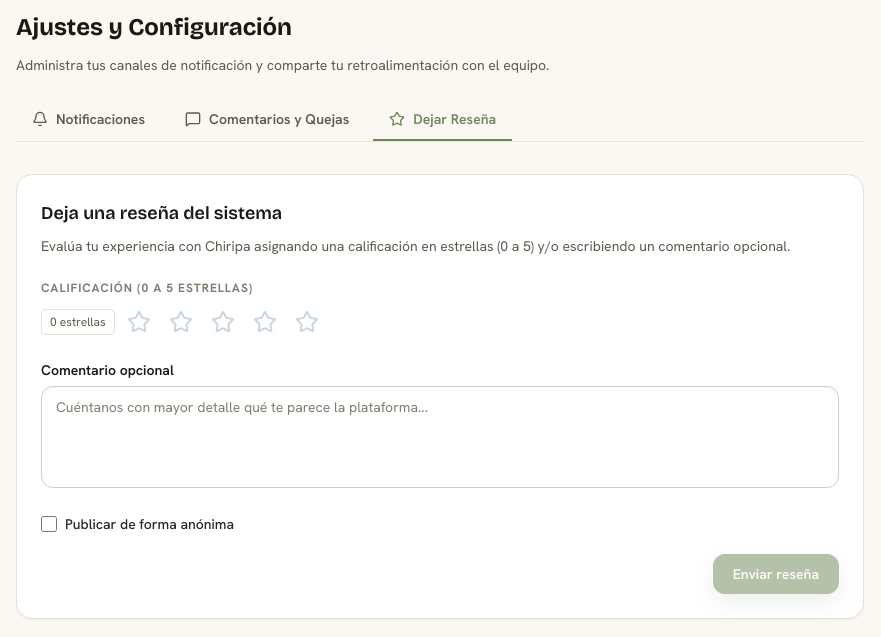
Test: SettingsHub (HU-24, S6/S7) › permite enviar una reseña con estrellas, comentario y anonimato (S7)
// Click 5 estrellas
Click the button named "5 estrellas" at (307, 322), box left=289, top=304, right=325, bottom=340
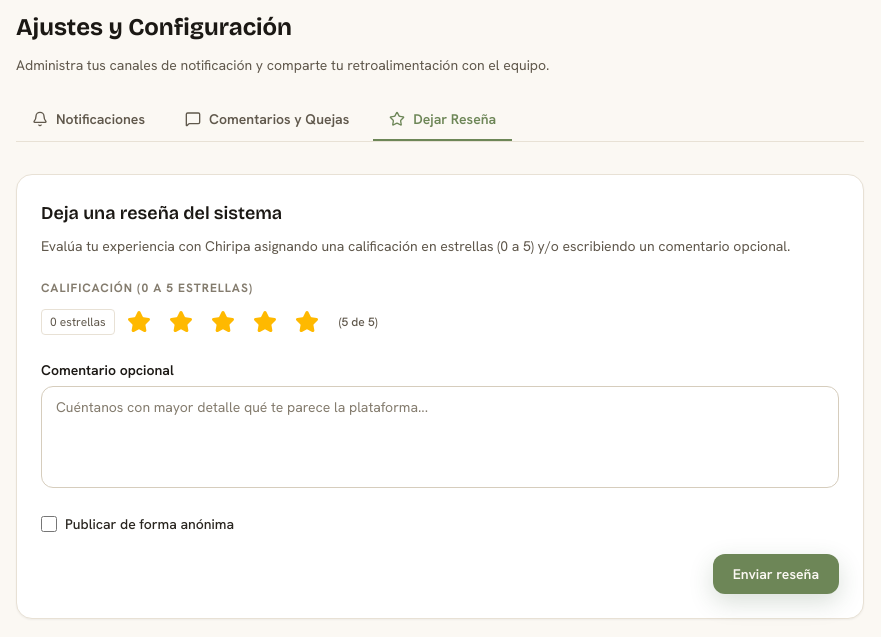
Type "Excelente plataforma." into the text box labelled "Comentario opcional" at (440, 437), box left=41, top=386, right=839, bottom=488
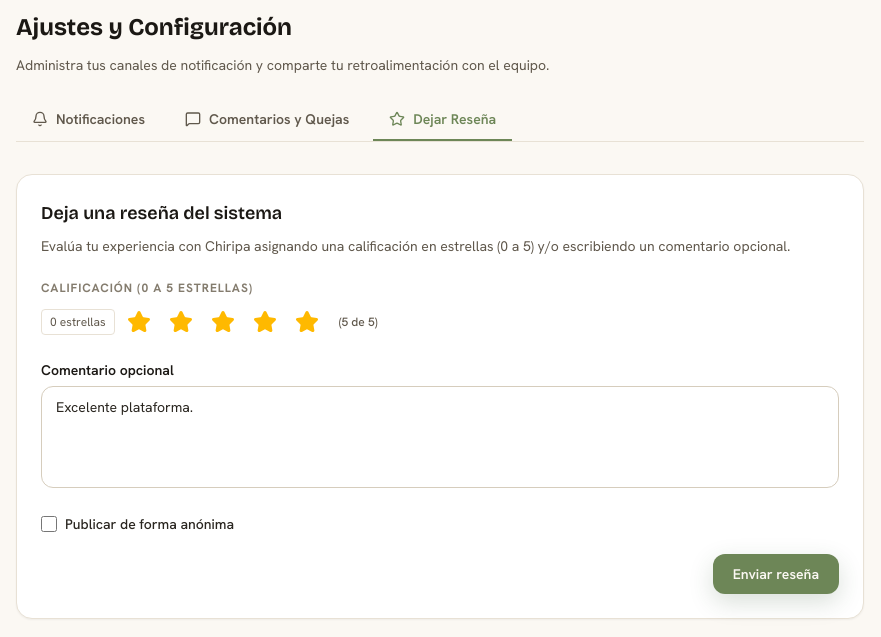
Click the checkbox labelled "Publicar de forma anónima" at (49, 524), box left=41, top=516, right=57, bottom=532
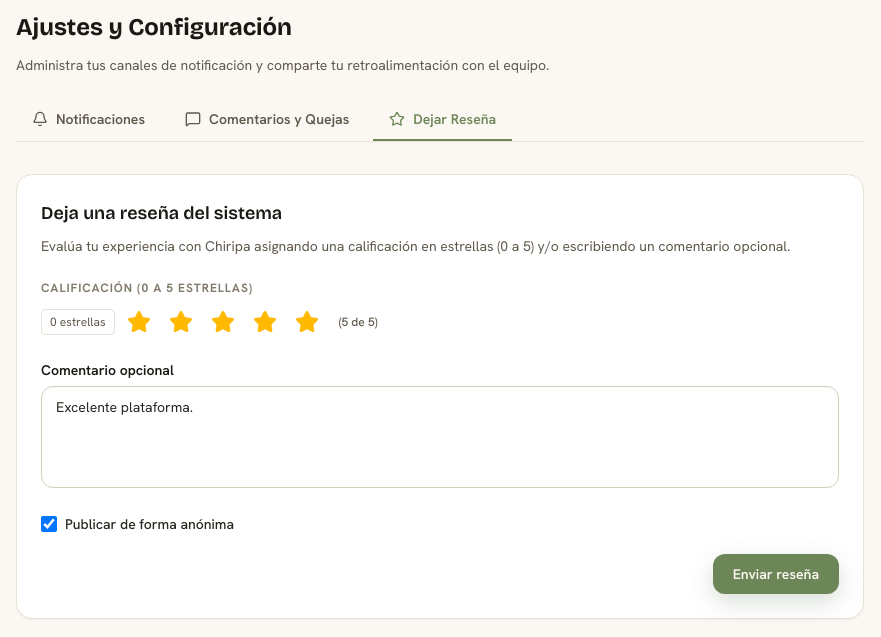
Click the button "Enviar reseña" at (776, 574), box left=713, top=554, right=839, bottom=594
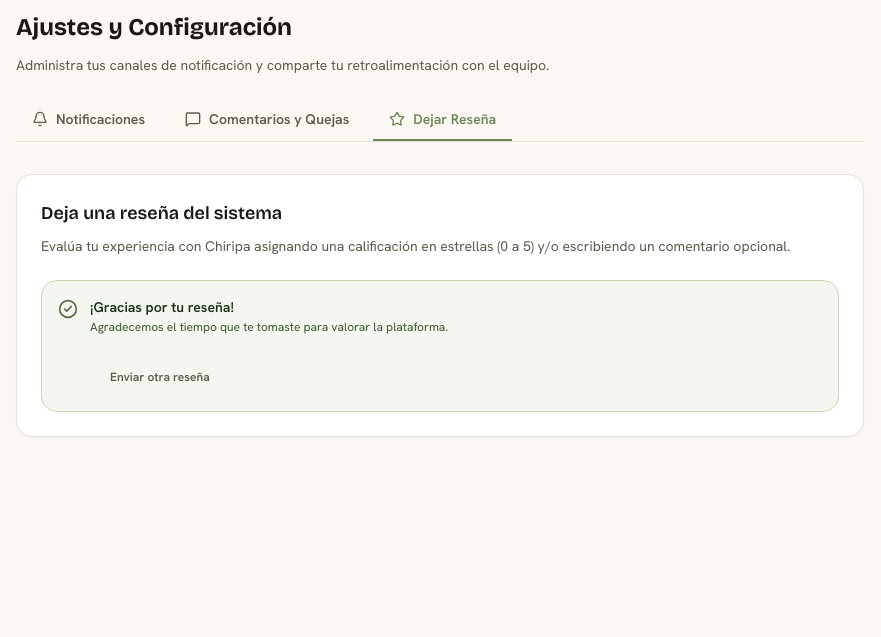
Expected: the text "¡Gracias por tu reseña!" is shown, left=90, top=298, right=234, bottom=316
